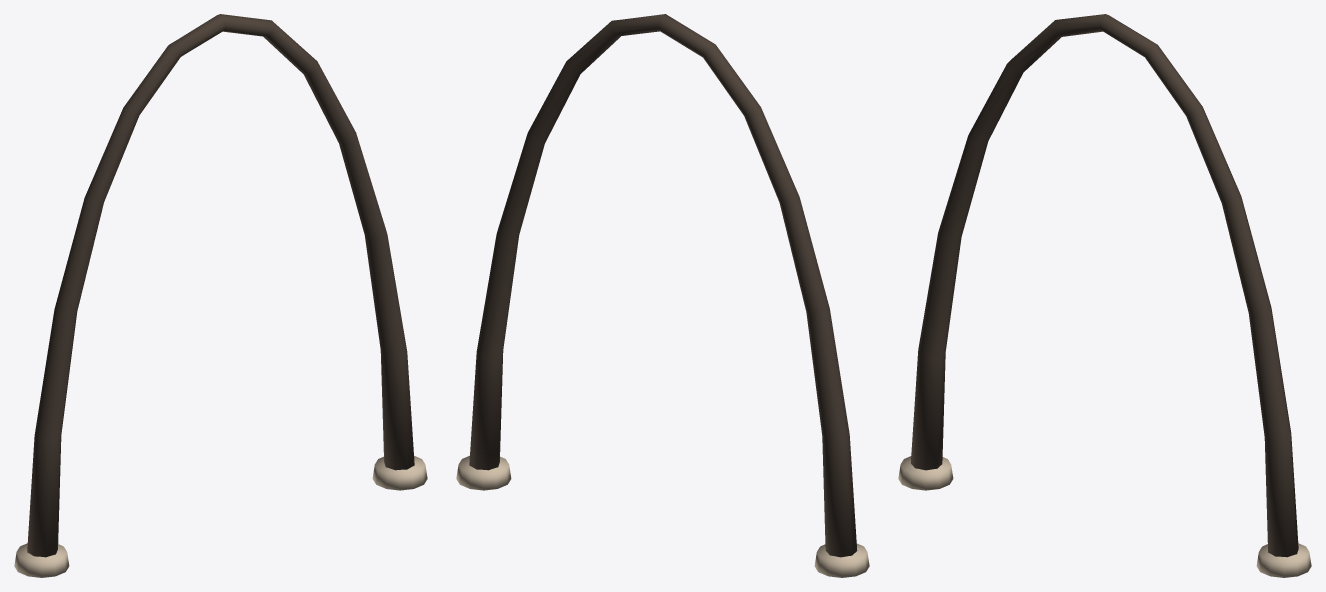
Rendered from city_hall_rib.glb.
3 views of the same model, side by side, from view 1: azimuth 30°, elevation 25°; view 2: azimuth 150°, elevation 25°; view 3: azimuth 330°, elevation 25° (orthographic).
Parts seen in each view (by area): view 1: CityHallRib_Rib, CityHallRib_Foot-1, CityHallRib_Foot1; view 2: CityHallRib_Rib, CityHallRib_Foot1, CityHallRib_Foot-1; view 3: CityHallRib_Rib, CityHallRib_Foot1, CityHallRib_Foot-1.
Part boxes in pixels (x1,y1,x2,y2): CityHallRib_Rib: [27, 14, 414, 557]; CityHallRib_Foot-1: [14, 543, 69, 577]; CityHallRib_Foot1: [372, 456, 427, 490]; CityHallRib_Rib: [469, 14, 857, 557]; CityHallRib_Foot1: [456, 455, 511, 490]; CityHallRib_Foot-1: [814, 543, 869, 577]; CityHallRib_Rib: [911, 14, 1298, 557]; CityHallRib_Foot1: [1256, 543, 1311, 577]; CityHallRib_Foot-1: [898, 456, 953, 490].
Size of the model in its own units: 10.2 by 12.21 by 1.2.
